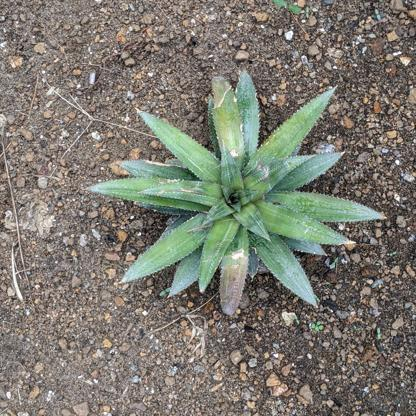pineapple: (83, 67, 387, 319)
